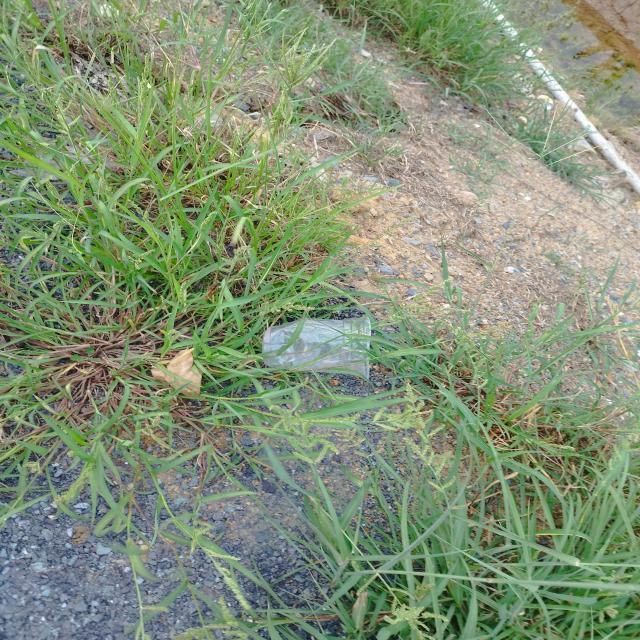plastic glass: (262, 316, 372, 379)
